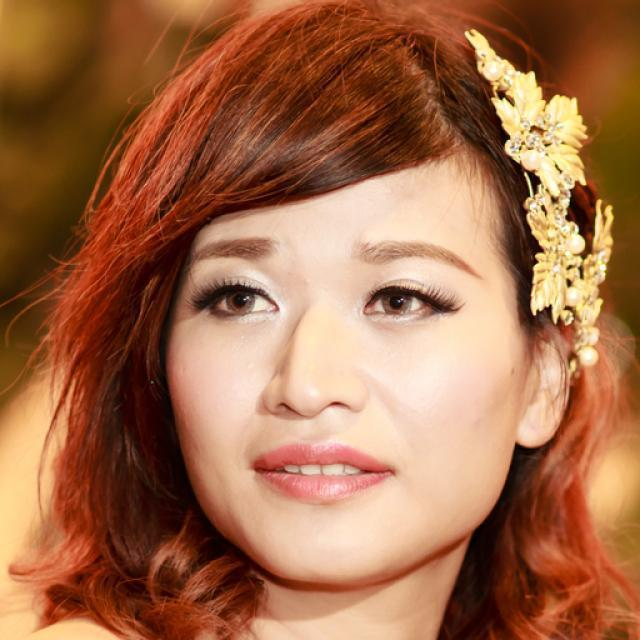0_rostro_limpio: (168, 27, 554, 584)
